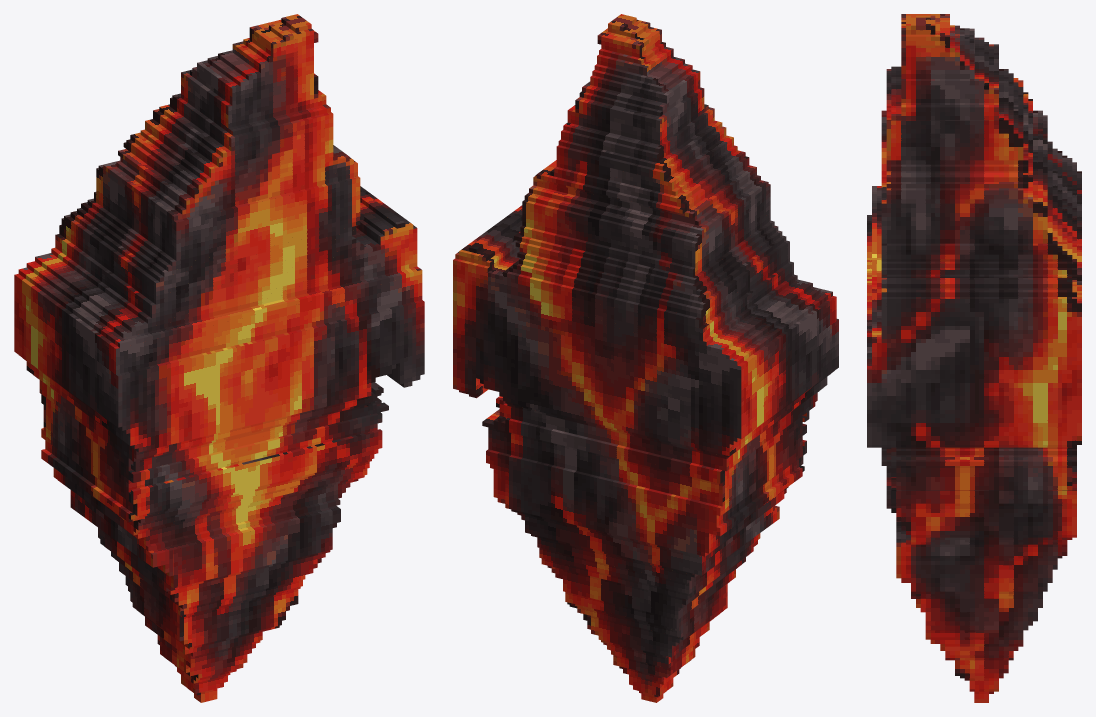
Rendered from dragon-ember.glb.
3 views of the same model, side by side, from view 1: azimuth 30°, elevation 25°; view 2: azimuth 150°, elevation 25°; view 3: azimuth 270°, elevation 25° (orthographic). The views are drawn at different scales.
Visible parts, largest first — view 1: dragon-ember_voxels; view 2: dragon-ember_voxels; view 3: dragon-ember_voxels.
Boxes of the visible parts, x1,y1,x2,y2 form: dragon-ember_voxels: [14, 14, 424, 702]; dragon-ember_voxels: [453, 14, 838, 702]; dragon-ember_voxels: [867, 14, 1081, 702].
Bounding box in the file's own units: 0.4688 × 1 × 0.275.
Materials: 1 (1 with a texture image).
